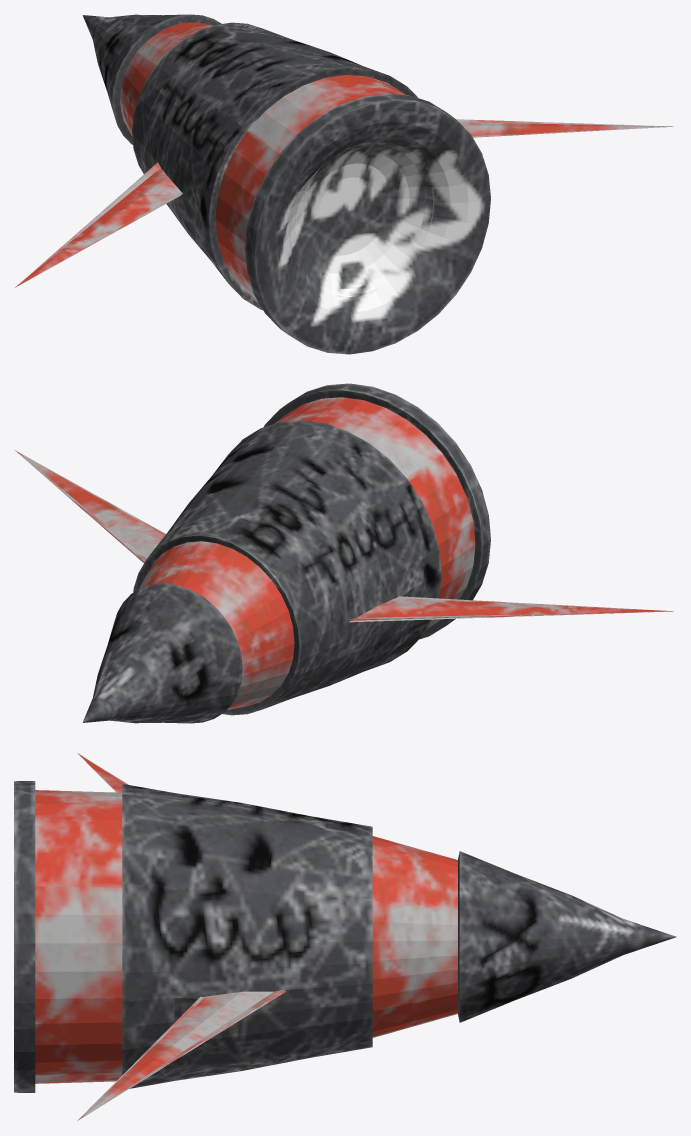
The model's file is missile.obj.
3 renders of one model, top to bottom at view 1: azimuth 30°, elevation 25°; view 2: azimuth 150°, elevation 25°; view 3: azimuth 270°, elevation 25°, orthographic. The views are drawn at different scales.
Parts seen in each view (by area): view 1: Cone_Cone_Cone_Cone.001; view 2: Cone_Cone_Cone_Cone.001; view 3: Cone_Cone_Cone_Cone.001.
Boxes of the visible parts, left/top/right/bottom form: Cone_Cone_Cone_Cone.001: left=15, top=14, right=673, bottom=354; Cone_Cone_Cone_Cone.001: left=15, top=383, right=673, bottom=723; Cone_Cone_Cone_Cone.001: left=14, top=753, right=676, bottom=1120.
Size of the model in its own units: 5.26 by 1.88 by 3.99.
Materials: 5 (5 with a texture image).
